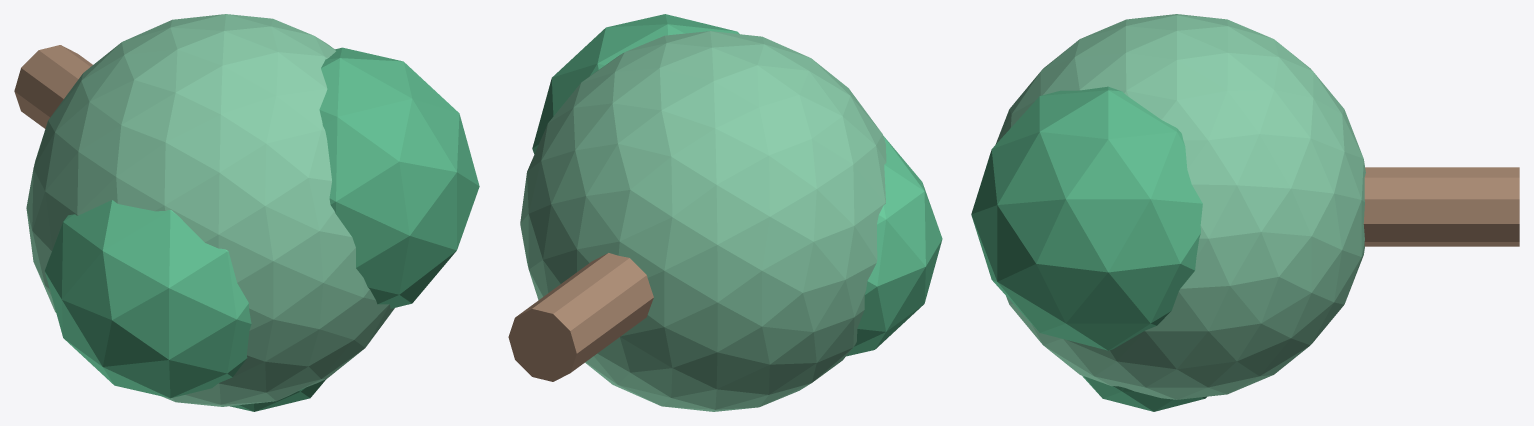
The model's file is tree-round.glb.
3 renders of one model, left to right at view 1: azimuth 30°, elevation 25°; view 2: azimuth 150°, elevation 25°; view 3: azimuth 270°, elevation 25°, orthographic. The views are drawn at different scales.
Parts seen in each view (by area): view 1: world; view 2: world; view 3: world.
Part boxes in pixels (left/top/right/bottom): world: left=14, top=14, right=479, bottom=411; world: left=508, top=14, right=942, bottom=411; world: left=971, top=14, right=1519, bottom=411.
Bounding box in the file's own units: 3.9 × 3.5 × 4.8.
